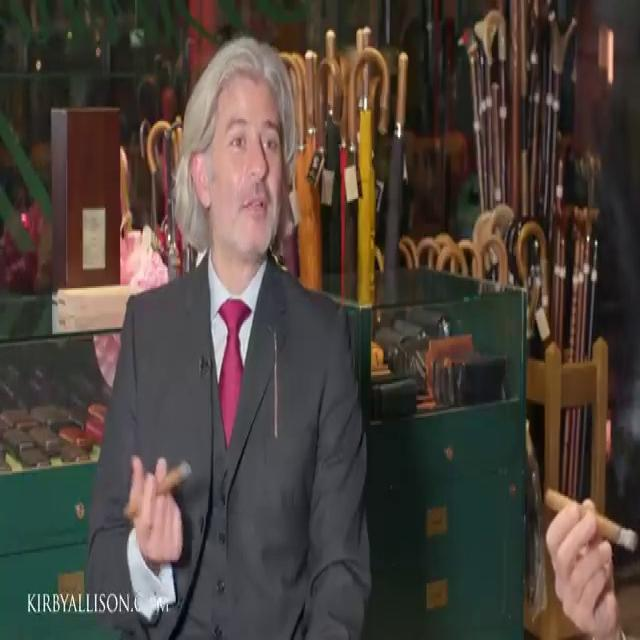Smooking: (115, 455, 203, 518)
